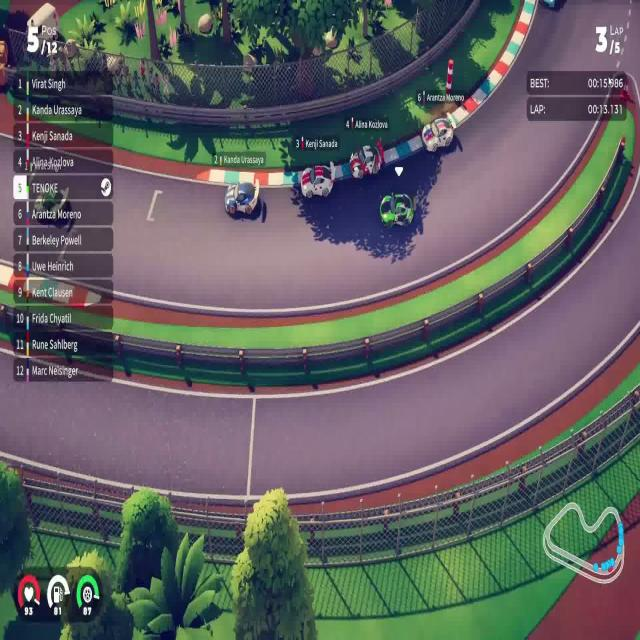car: (224, 173, 260, 219), (299, 162, 335, 200), (379, 190, 414, 228), (421, 115, 454, 153), (349, 142, 382, 180)
